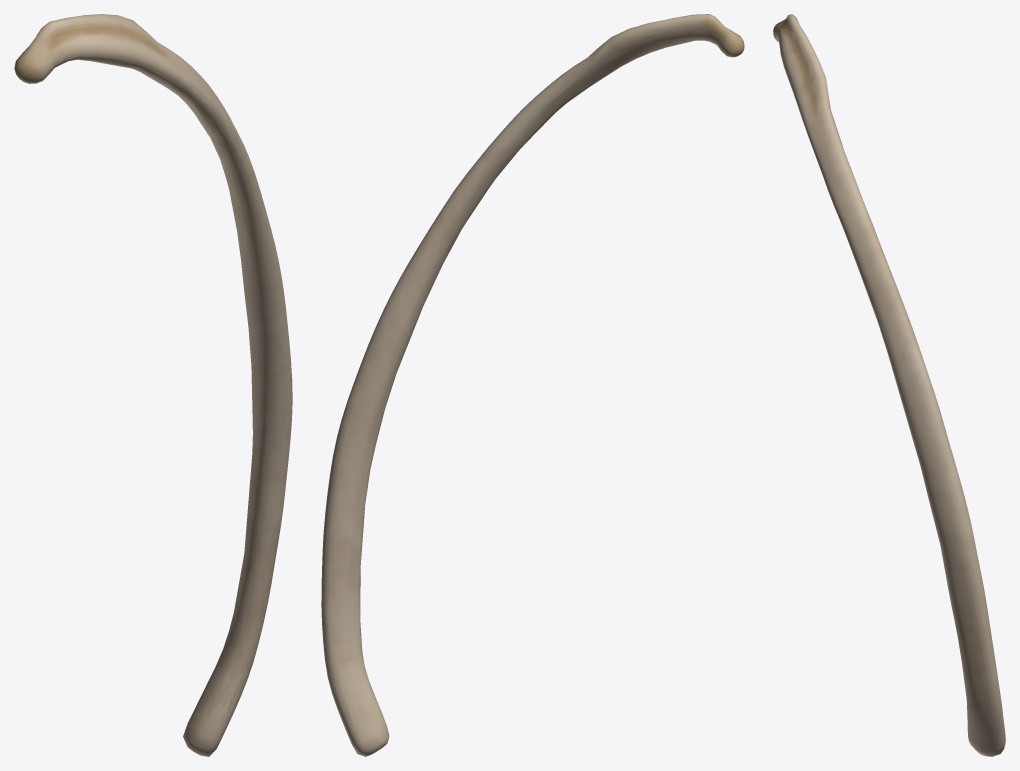
File: Rib L08.fbx
The picture shows the model from 3 angles, left to right: view 1: azimuth 30°, elevation 25°; view 2: azimuth 150°, elevation 25°; view 3: azimuth 270°, elevation 25°; orthographic projection. The views are drawn at different scales.
Visible parts, largest first — view 1: Rib L08 low, Rib L08; view 2: Rib L08, Rib L08 low; view 3: Rib L08, Rib L08 low.
Part boxes in pixels (<box>): Rib L08 low: <box>14,14,290,754</box>; Rib L08: <box>14,14,292,756</box>; Rib L08: <box>321,14,744,756</box>; Rib L08 low: <box>324,14,743,755</box>; Rib L08: <box>773,14,1005,756</box>; Rib L08 low: <box>774,16,1003,753</box>.
Size of the model in its own units: 21.9 by 47.86 by 15.77.
1 material, 1 textured.
